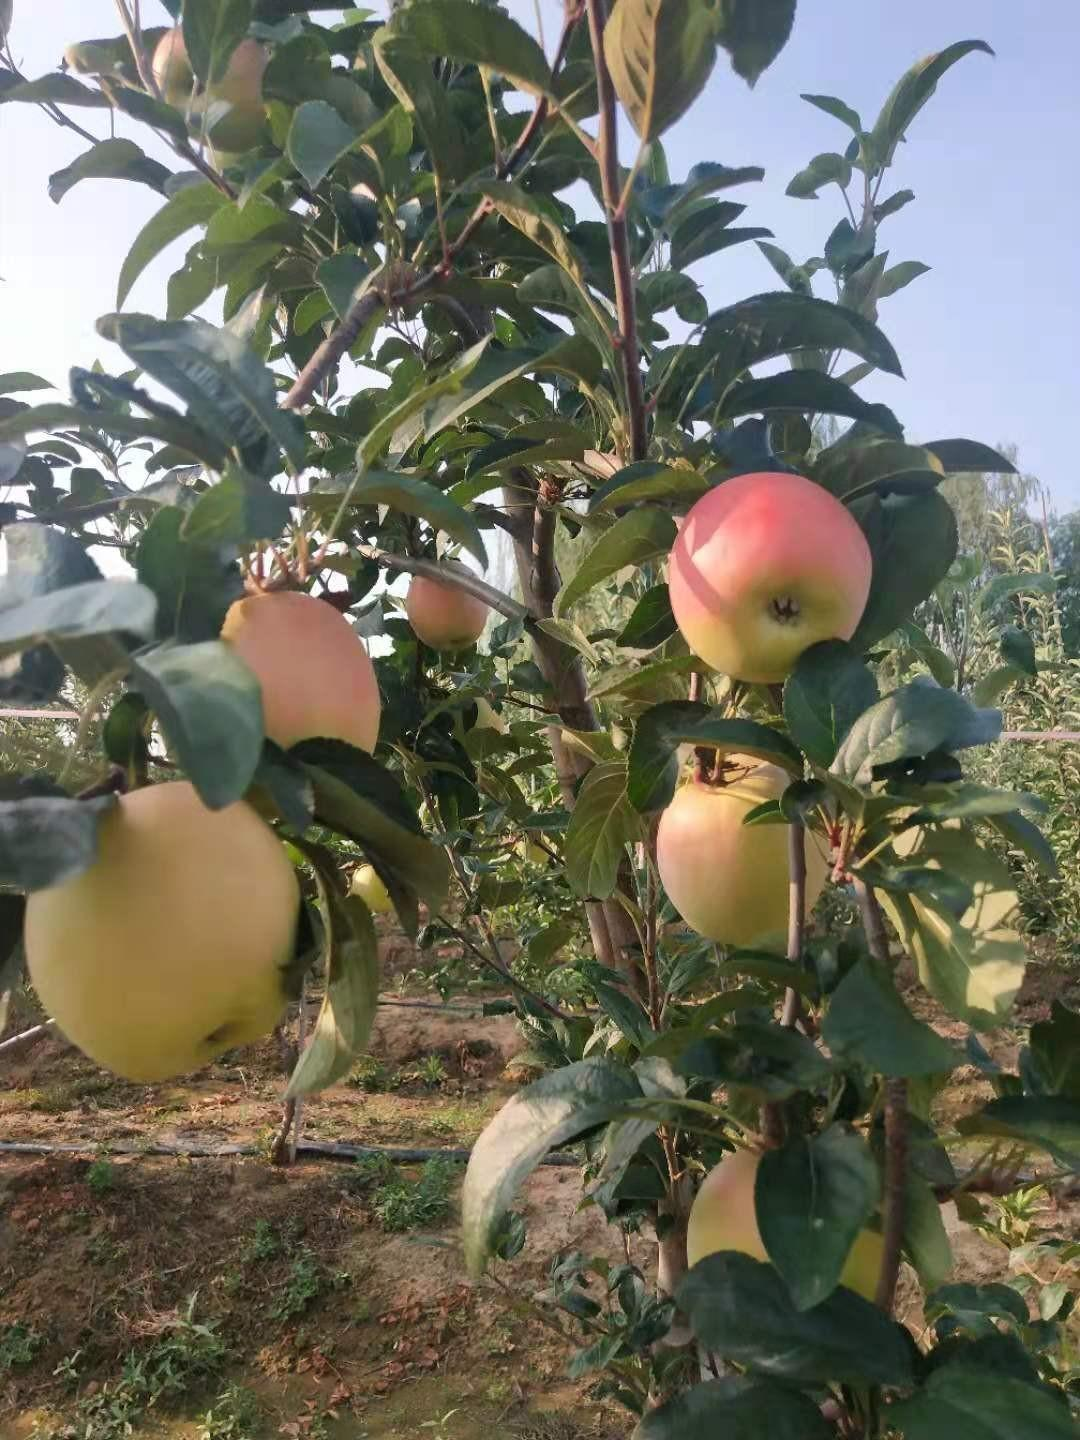apple: (24, 773, 302, 1084), (664, 475, 870, 684), (692, 1137, 898, 1308), (653, 759, 796, 958), (217, 596, 380, 757), (406, 564, 496, 651)
